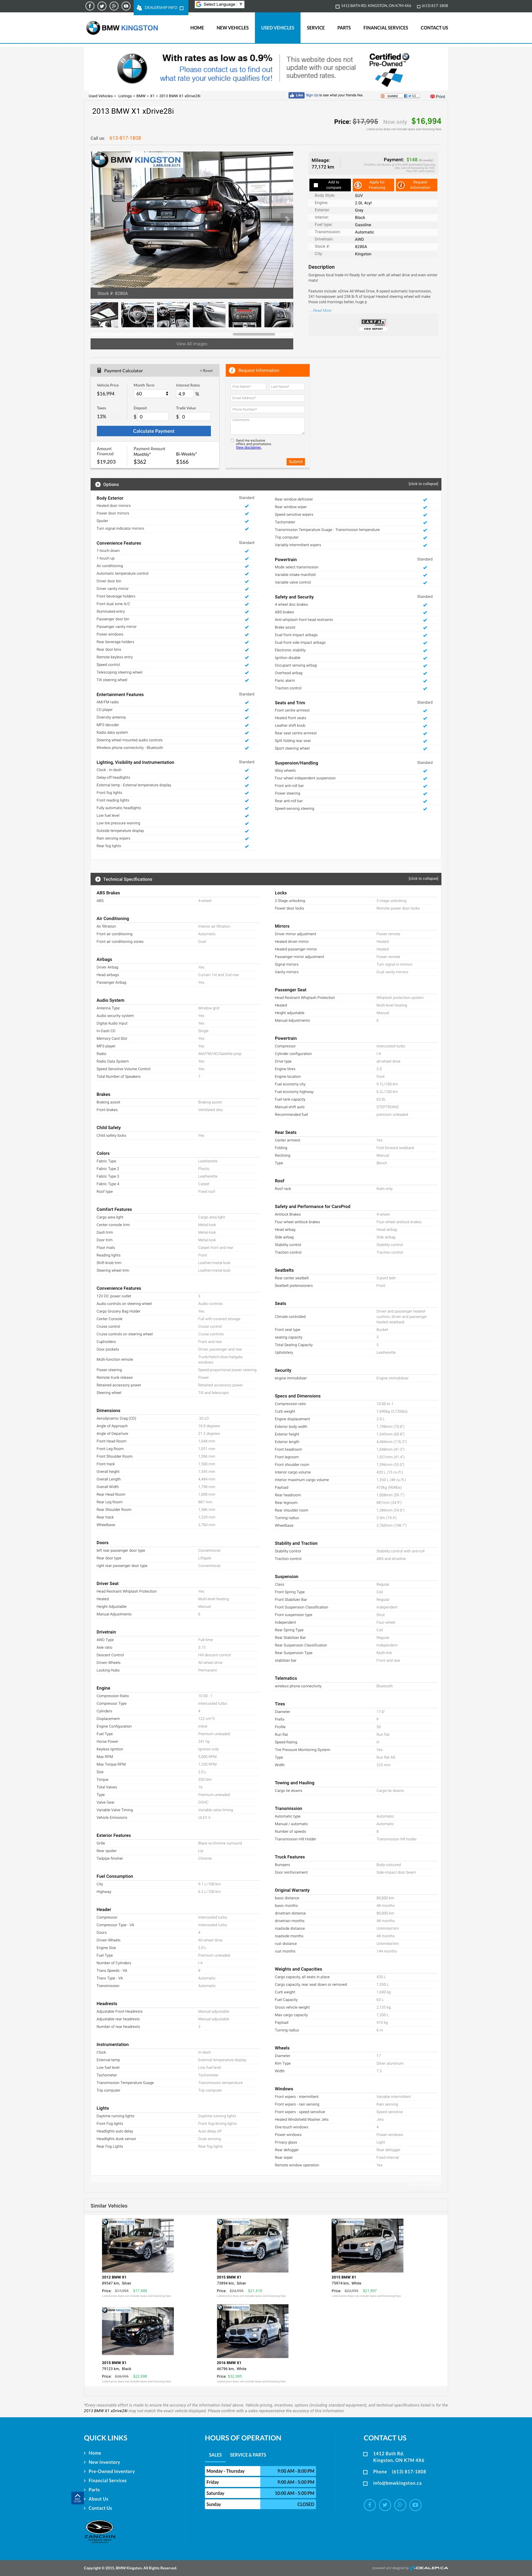car: (281, 214, 294, 227)
